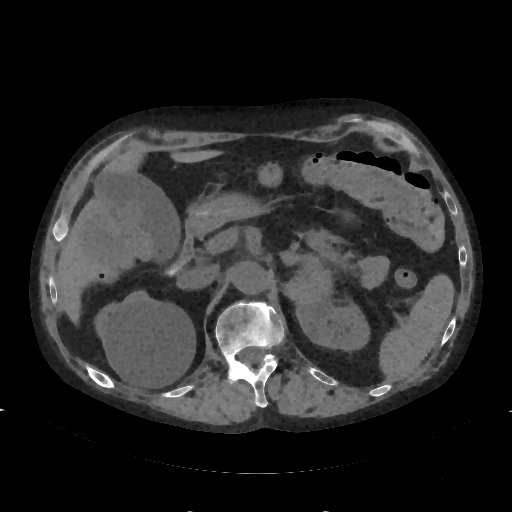Lesion: (99, 301, 200, 394)
